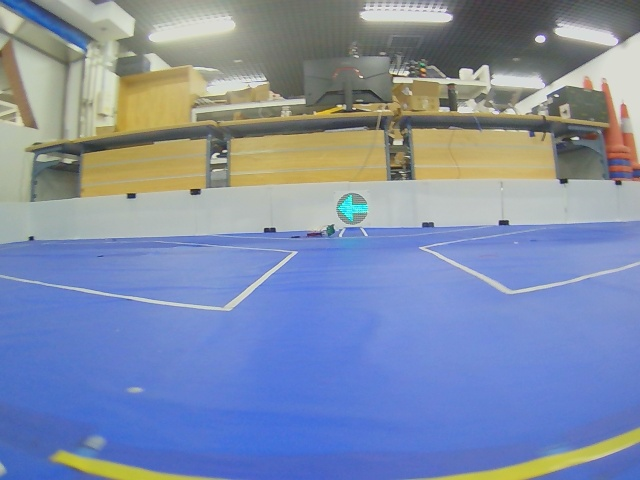left_green: (336, 193, 369, 225)
